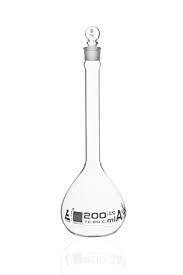Volumetric flask: (52, 24, 135, 237)
